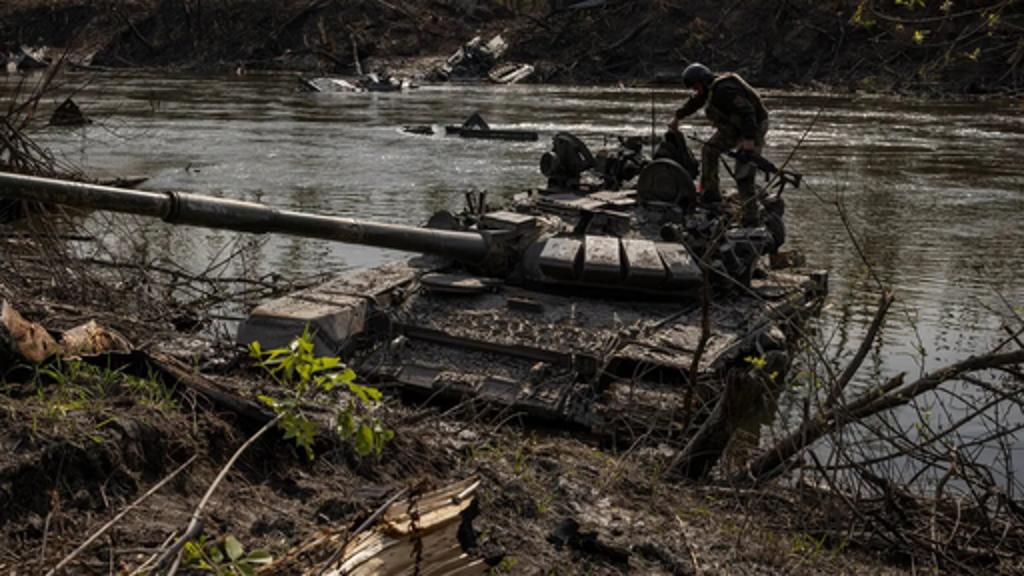TANK: (0, 120, 824, 480)
